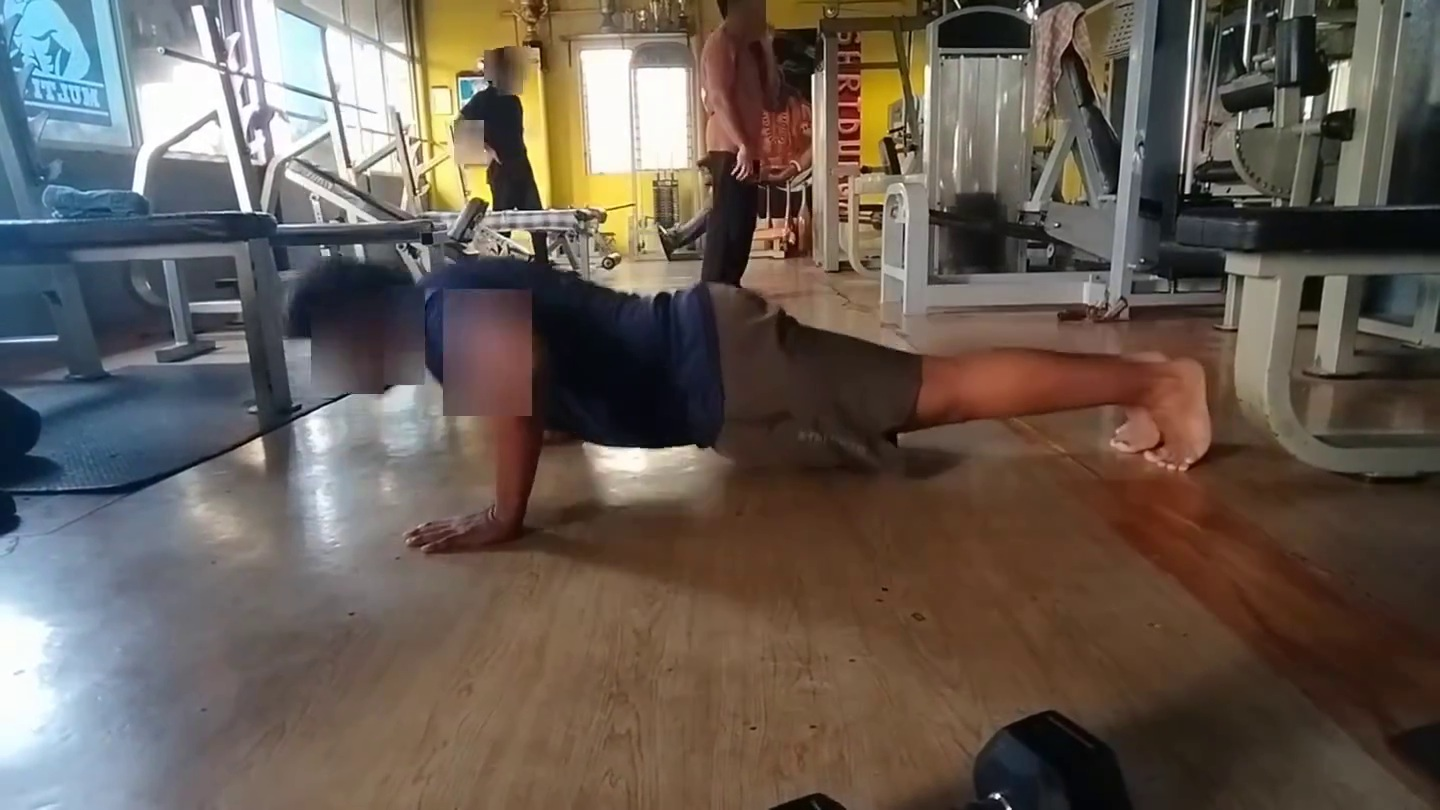push_up_correct: (250, 205, 1263, 612)
